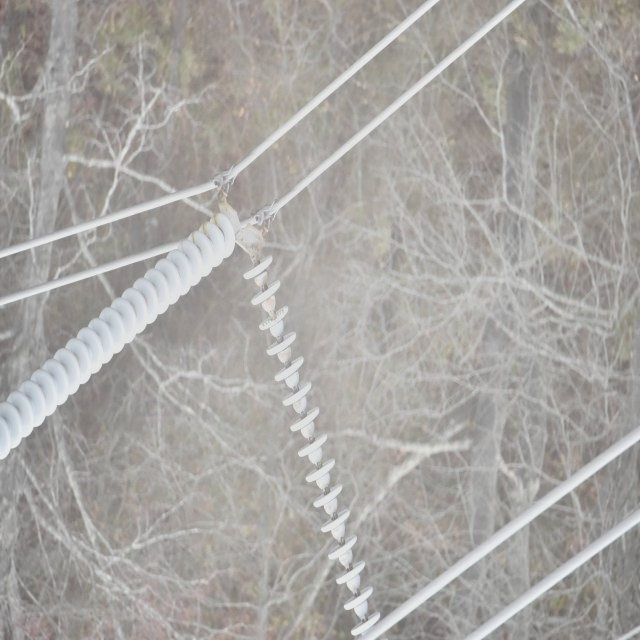broken: (260, 304, 289, 329)
insulator: (0, 211, 236, 461), (243, 253, 383, 632)
